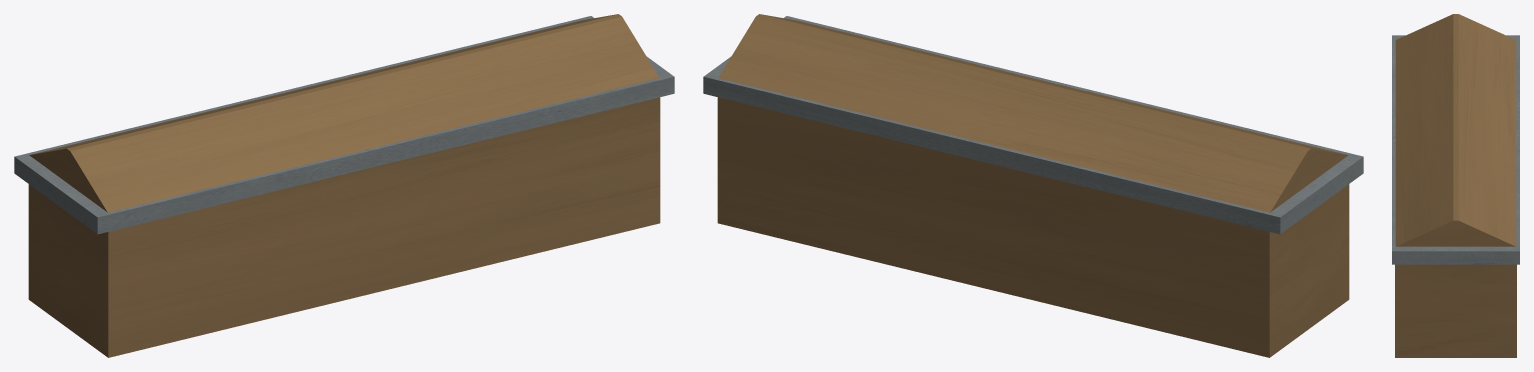
Rendered from BumperRailingx4.glb.
3 renders of one model, left to right at view 1: azimuth 30°, elevation 25°; view 2: azimuth 150°, elevation 25°; view 3: azimuth 270°, elevation 25°, orthographic. The views are drawn at different scales.
Visible parts, largest first — view 1: BumperRailingx4; view 2: BumperRailingx4; view 3: BumperRailingx4.
Part boxes in pixels (<box>): BumperRailingx4: <box>14,14,674,357</box>; BumperRailingx4: <box>703,14,1363,357</box>; BumperRailingx4: <box>1392,14,1519,357</box>.
Bounding box in the file's own units: 8.36 × 2.48 × 2.09.
2 materials, 2 textured.
